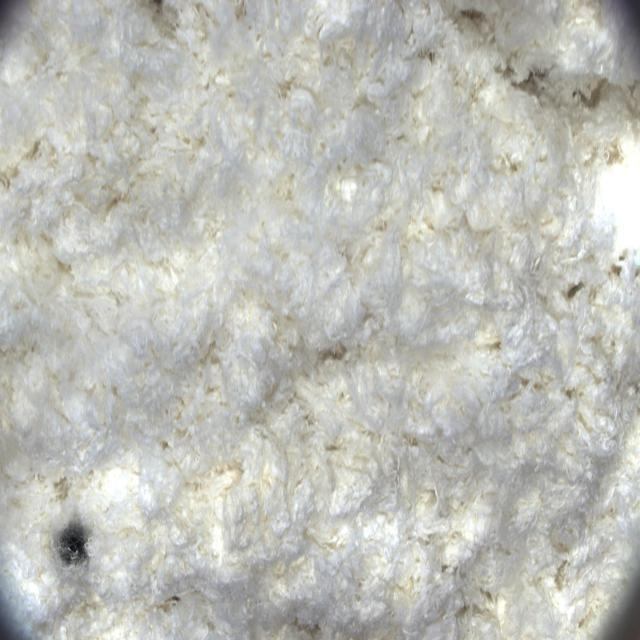dust: (41, 490, 113, 602)
